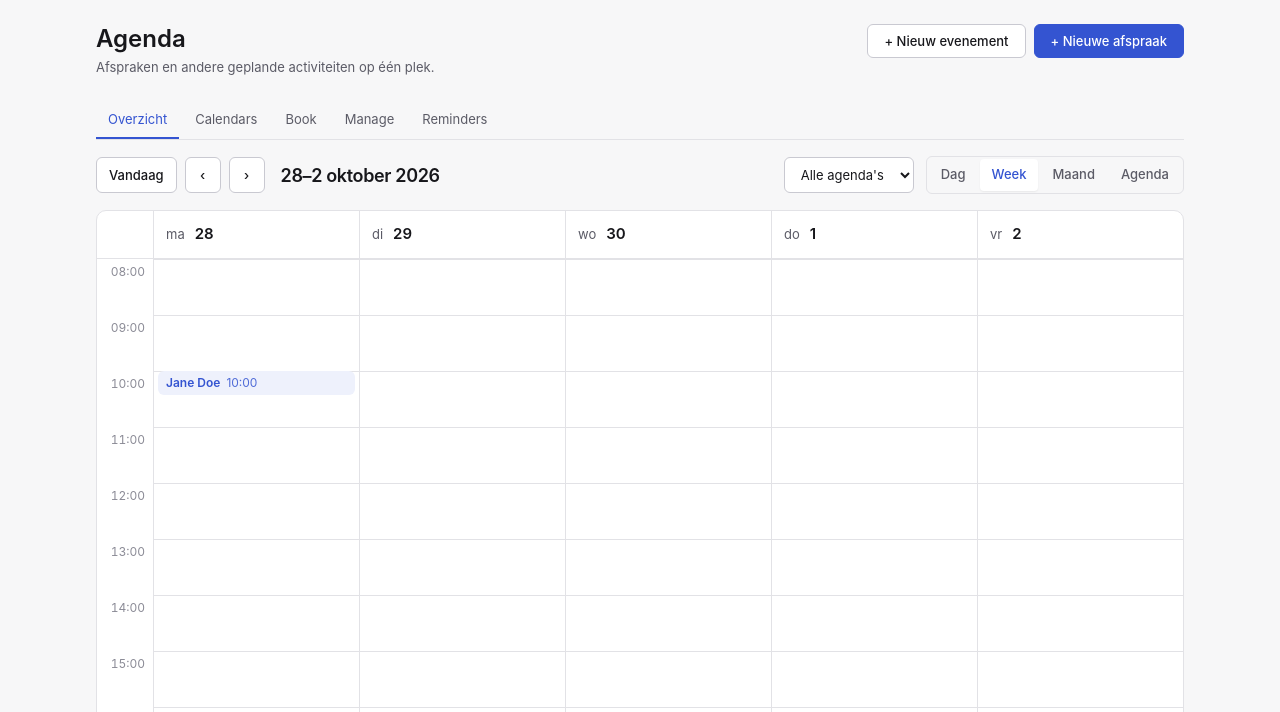
Test: AppointmentsWeekPage › opens the real appointment detail side panel when a real event is clicked
Click the text "Jane Doe" at {"x": 193, "y": 382}, box [166,374,220,390]
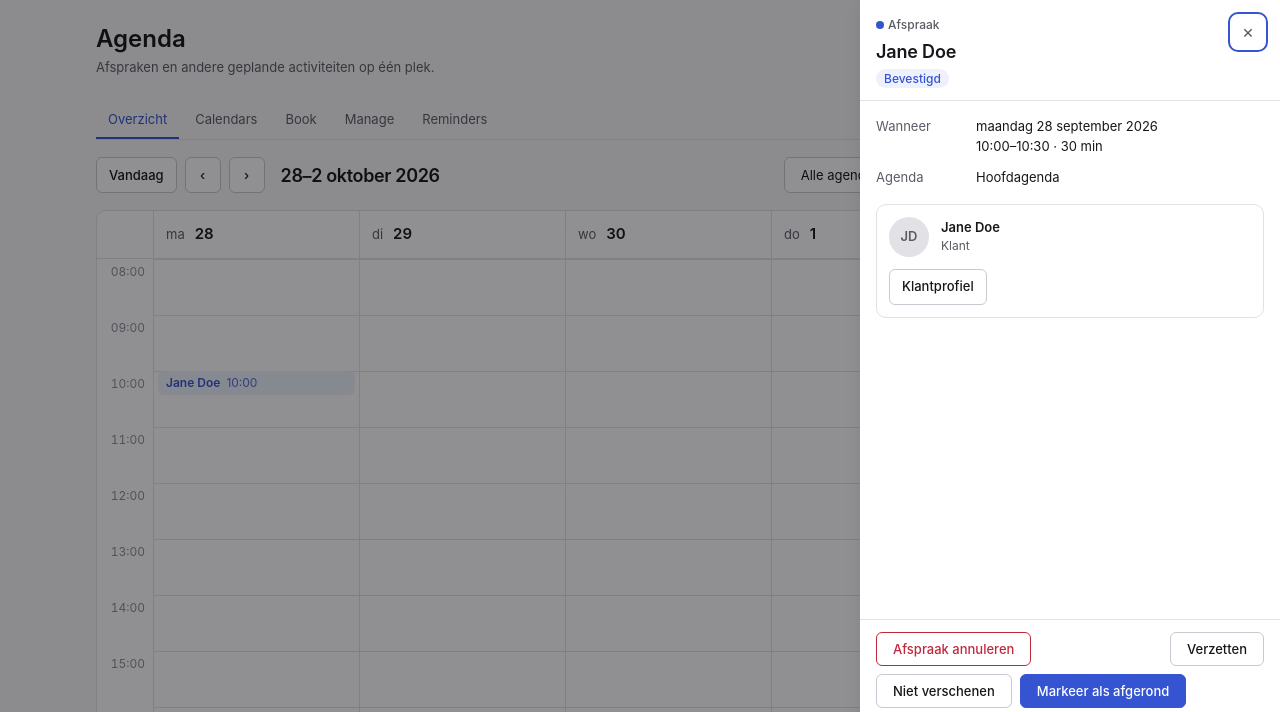
Now the text "Hoofdagenda" is shown, box [976,169,1059,185]
Now the text "Bevestigd" is shown, box [876,69,949,88]
